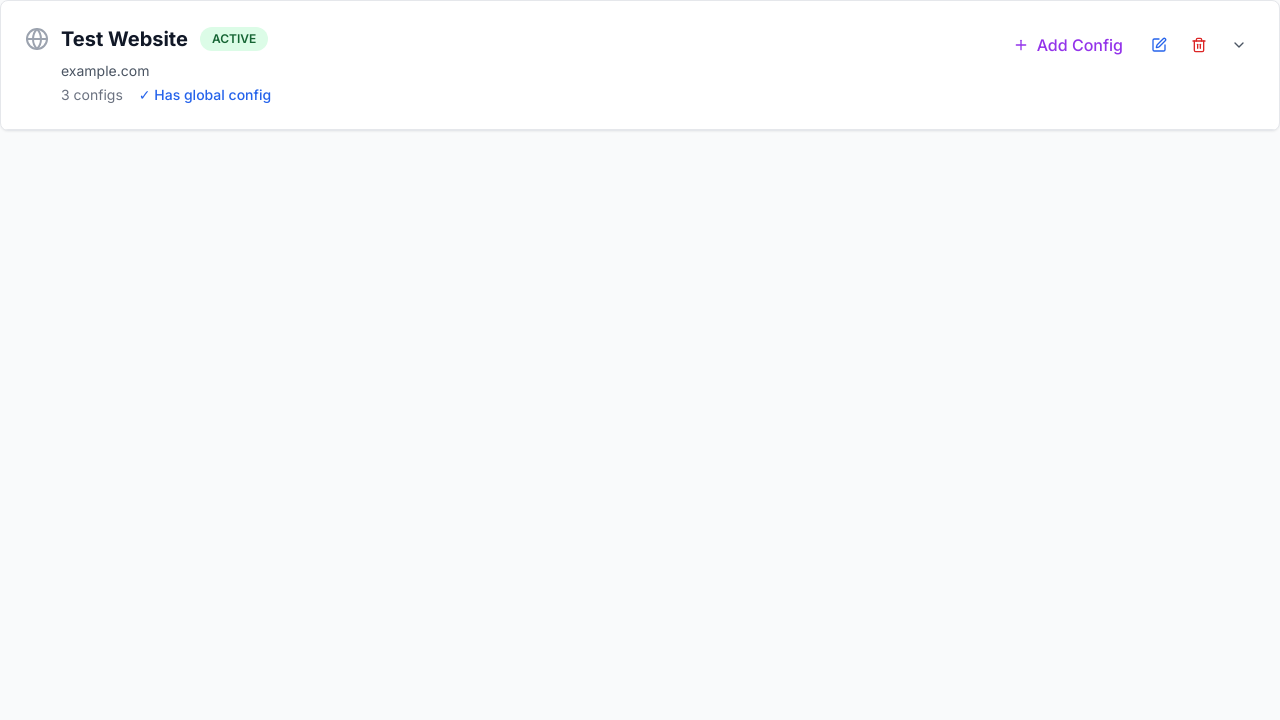
Test: WebsiteCard › Config display › should display global config with GLOBAL label
The image size is (1280, 720).
Click the button titled "Expand". click: point(1239, 45)
box: left=1223, top=29, right=1255, bottom=61
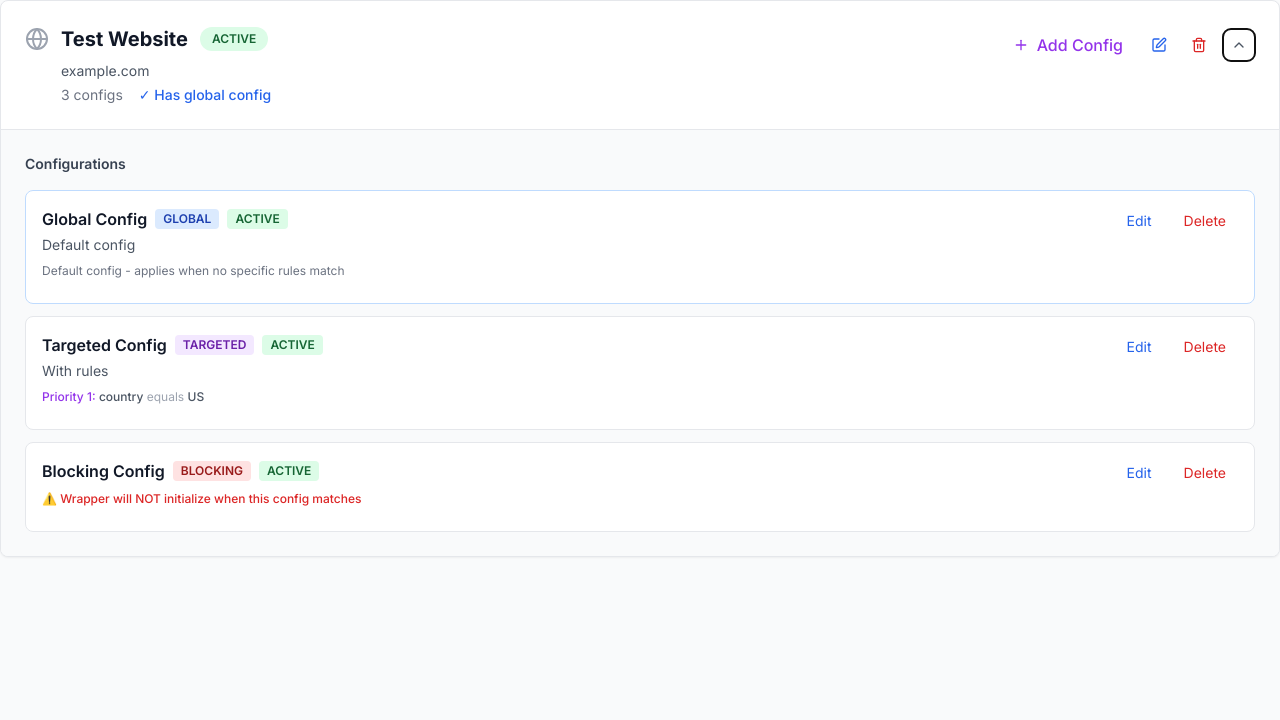
Check: the text "GLOBAL" is shown, box left=155, top=209, right=219, bottom=229
